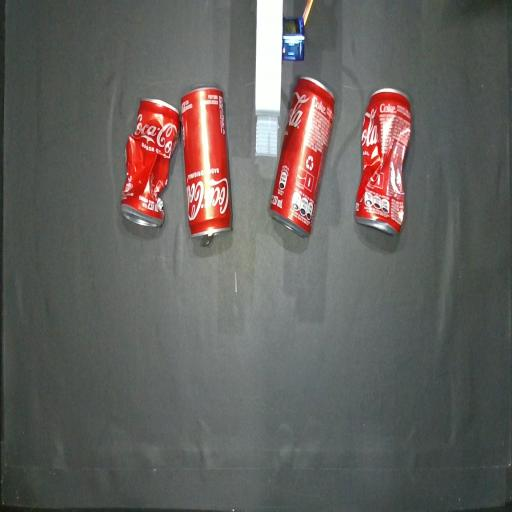lata: (270, 77, 334, 236), (181, 85, 232, 246)
lata_defectuoso: (355, 89, 411, 234), (121, 100, 180, 226)
